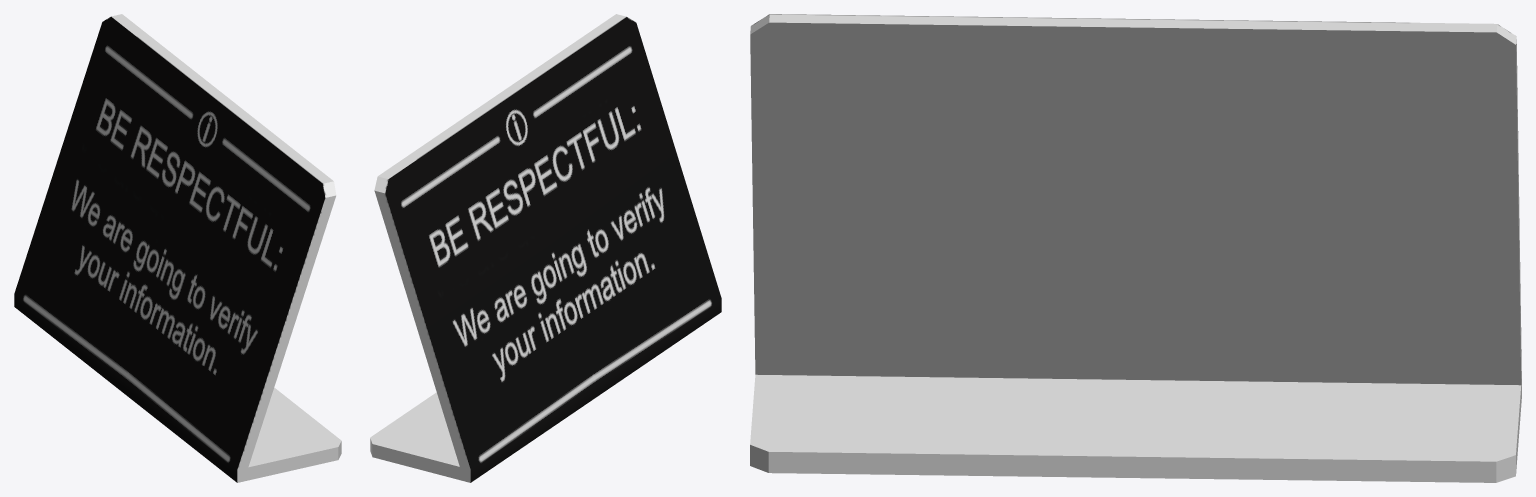
File: deskSign.glb
The picture shows the model from 3 angles, left to right: view 1: azimuth 30°, elevation 25°; view 2: azimuth 150°, elevation 25°; view 3: azimuth 270°, elevation 25°; orthographic projection. The views are drawn at different scales.
Parts seen in each view (by area): view 1: desk_sign_geo; view 2: desk_sign_geo; view 3: desk_sign_geo.
Boxes of the visible parts, x1,y1,x2,y2 form: desk_sign_geo: [14, 14, 341, 482]; desk_sign_geo: [370, 14, 721, 482]; desk_sign_geo: [750, 14, 1521, 482].
Bounding box in the file's own units: 0.1061 × 0.2303 × 0.3623.
1 material, 1 textured.
